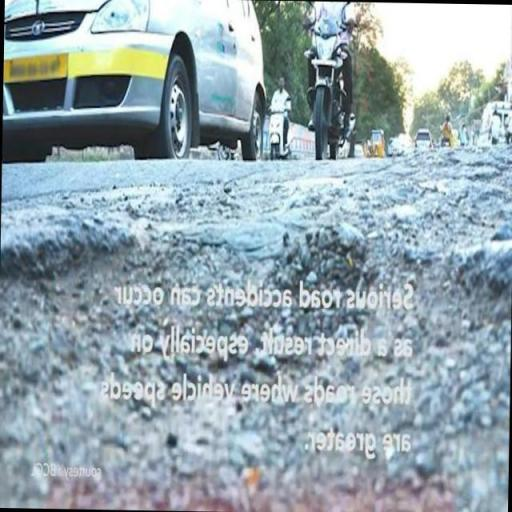pothole: (142, 230, 512, 512)
